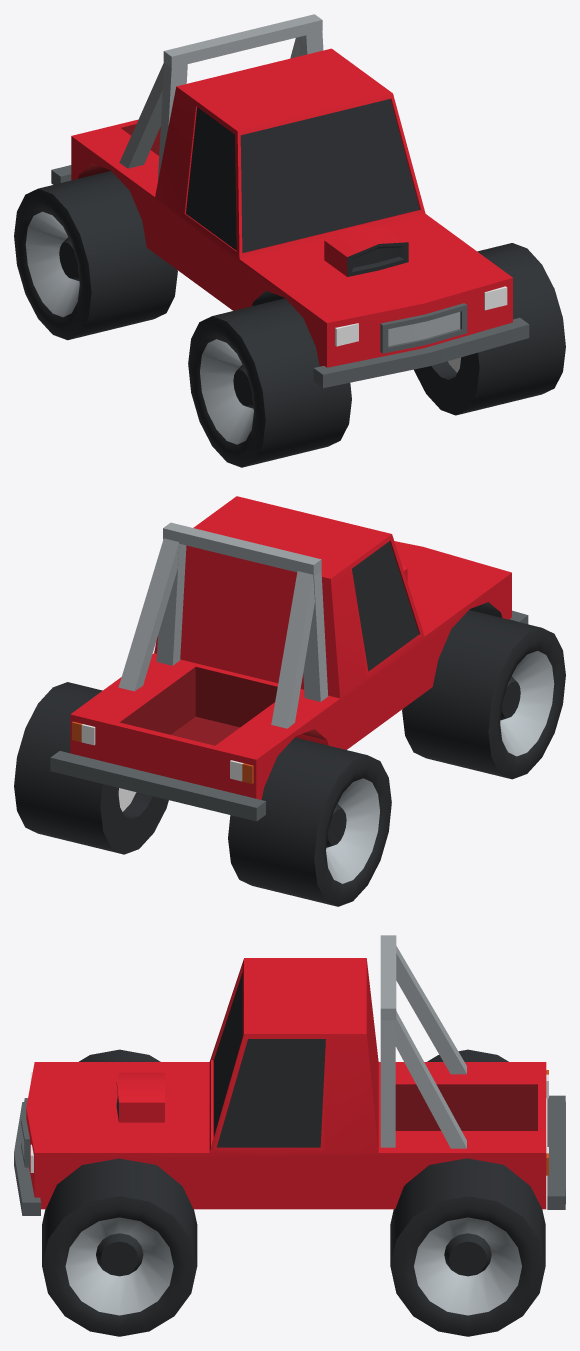
Rendered from Race Royale.fbx_Car10.fbx.
3 views of the same model, one above another, from view 1: azimuth 30°, elevation 25°; view 2: azimuth 150°, elevation 25°; view 3: azimuth 270°, elevation 25° (orthographic).
Visible parts, largest first — view 1: Car10, Car10Wheel4, Car10Wheel2, Car10Wheel1; view 2: Car10, Car10Wheel4, Car10Wheel2, Car10Wheel3; view 3: Car10, Car10Wheel3, Car10Wheel1, Car10Wheel2.
Part boxes in pixels (x1=…): Car10: x1=51, y1=14, x2=529, y2=388; Car10Wheel4: x1=14, y1=171, x2=177, y2=340; Car10Wheel2: x1=188, y1=298, x2=351, y2=467; Car10Wheel1: x1=414, y1=243, x2=565, y2=415; Car10: x1=50, y1=496, x2=528, y2=821; Car10Wheel4: x1=228, y1=737, x2=391, y2=906; Car10Wheel2: x1=402, y1=610, x2=565, y2=779; Car10Wheel3: x1=14, y1=682, x2=168, y2=854; Car10: x1=14, y1=935, x2=565, y2=1215; Car10Wheel3: x1=390, y1=1158, x2=545, y2=1336; Car10Wheel1: x1=42, y1=1158, x2=197, y2=1336; Car10Wheel2: x1=79, y1=1049, x2=160, y2=1061.
Bounding box in the file's own units: 342 × 312 × 535.
